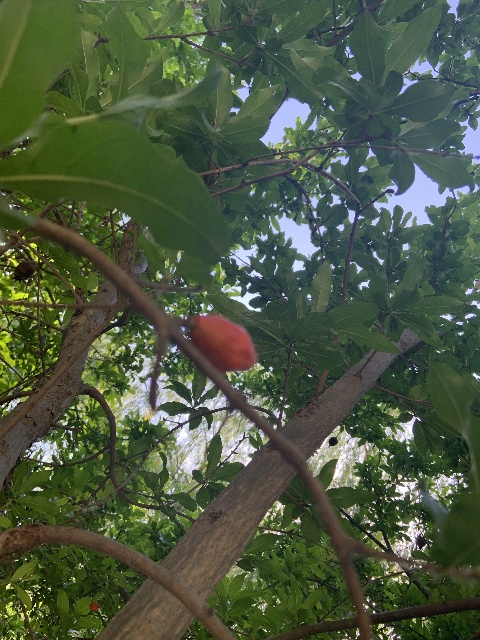bud: (188, 314, 257, 372)
flower: (89, 601, 98, 611)
